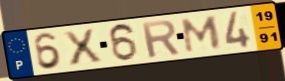4: (223, 10, 253, 50)
6: (107, 22, 142, 65), (33, 32, 63, 72)
M: (181, 14, 223, 55)
R: (139, 18, 182, 60)
X: (60, 27, 105, 68)
